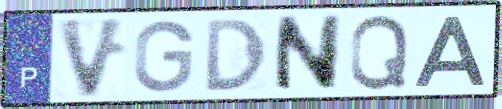A: (410, 14, 489, 88)
D: (203, 16, 270, 94)
G: (131, 18, 197, 95)
N: (271, 13, 345, 95)
Q: (346, 13, 411, 92)
V: (54, 16, 131, 101)
